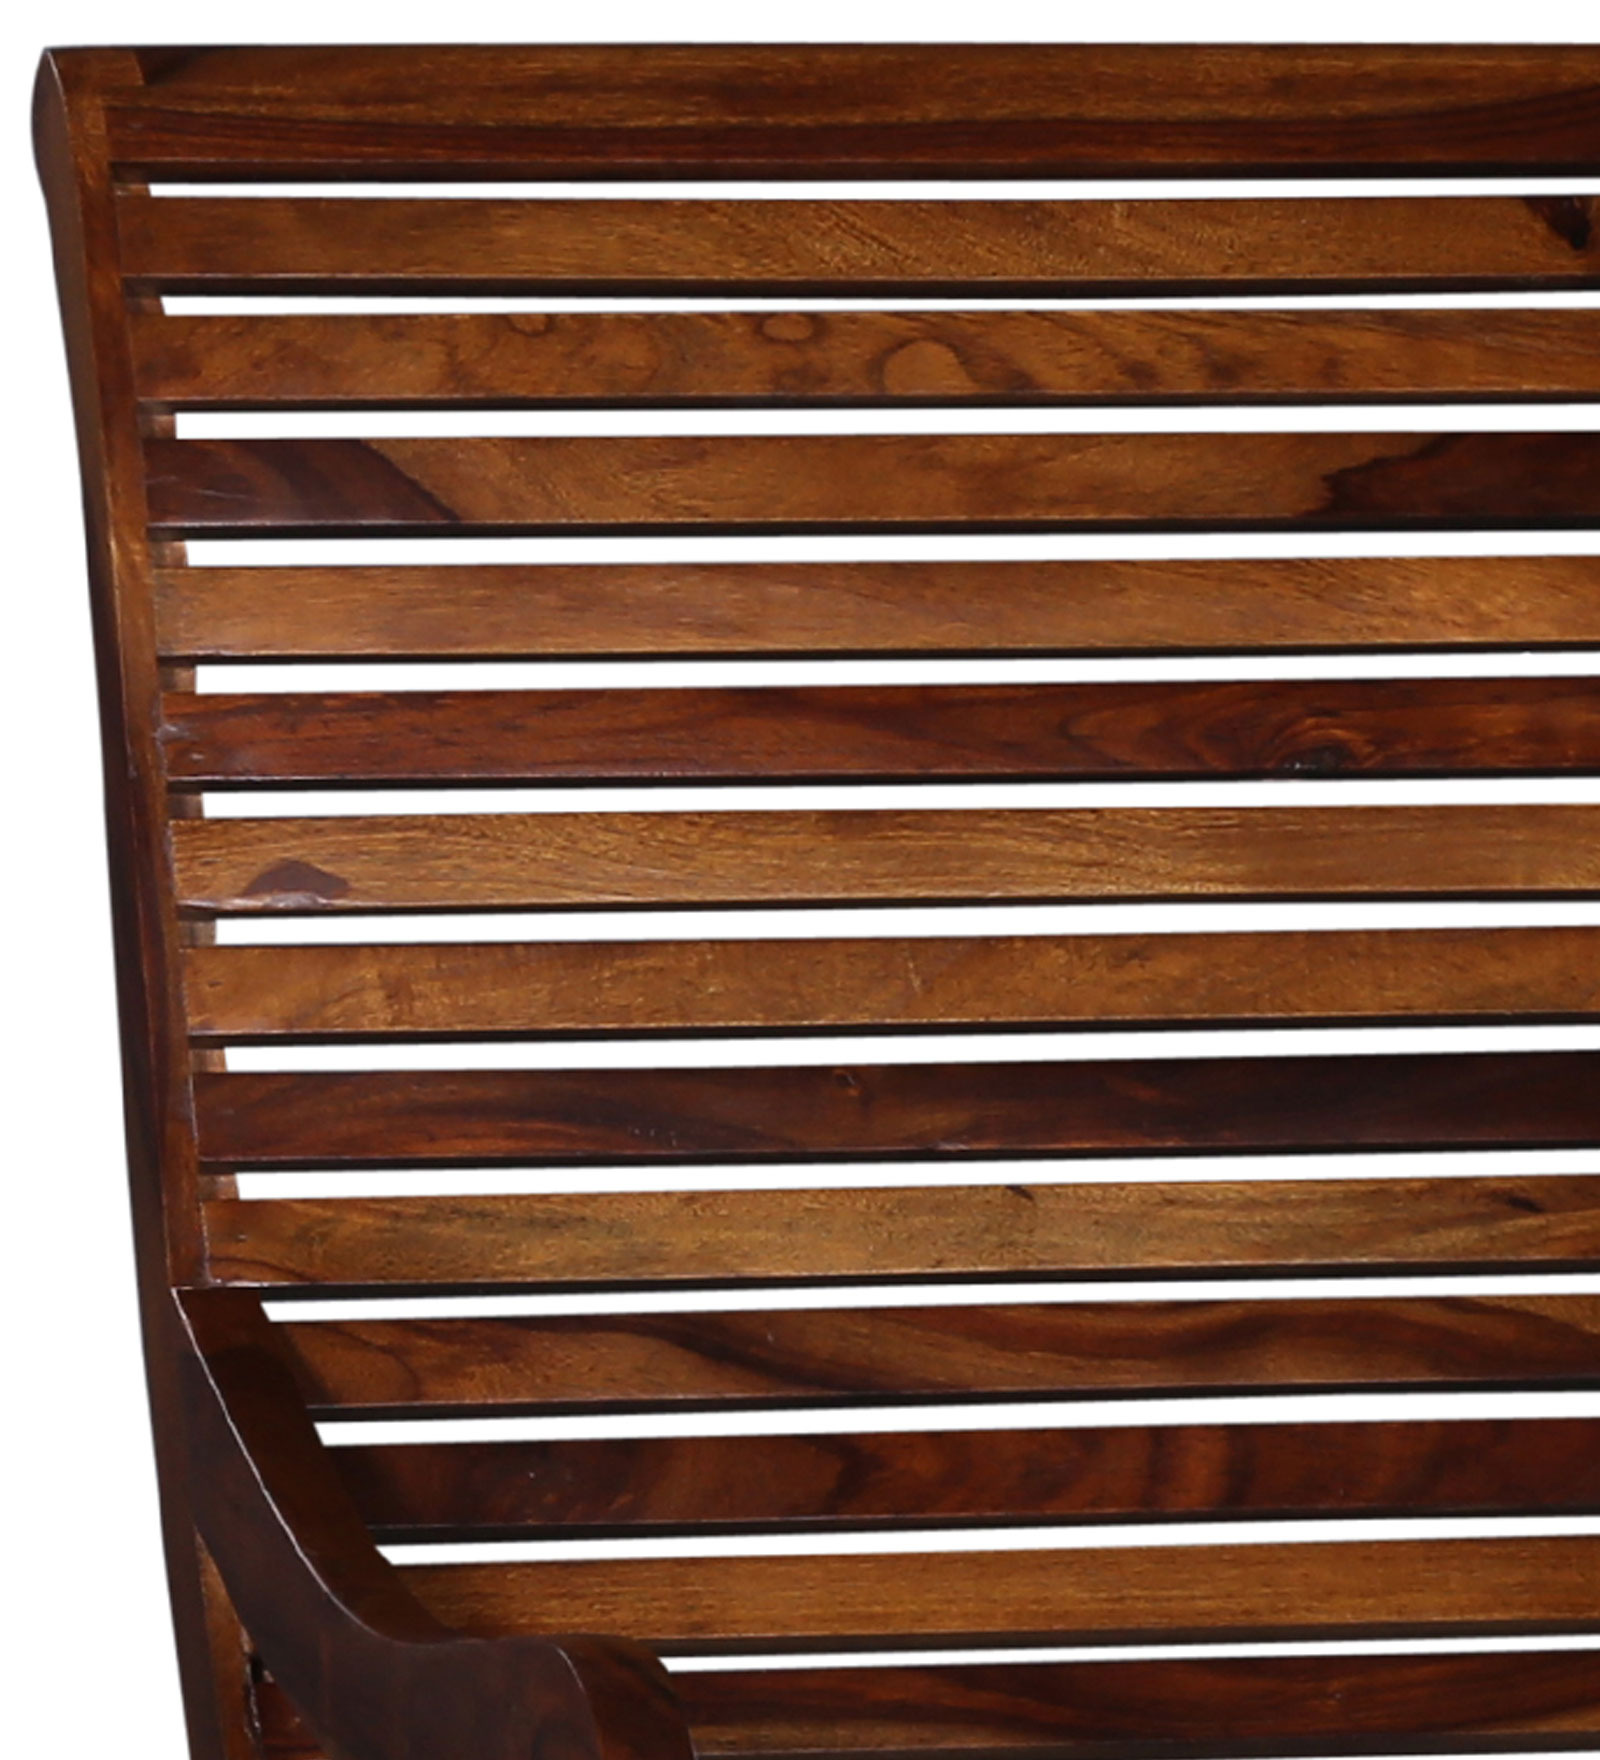Wellesley Rocking Chair in Provincial Teak Finish by Amberville: (64, 63, 1526, 1686)
